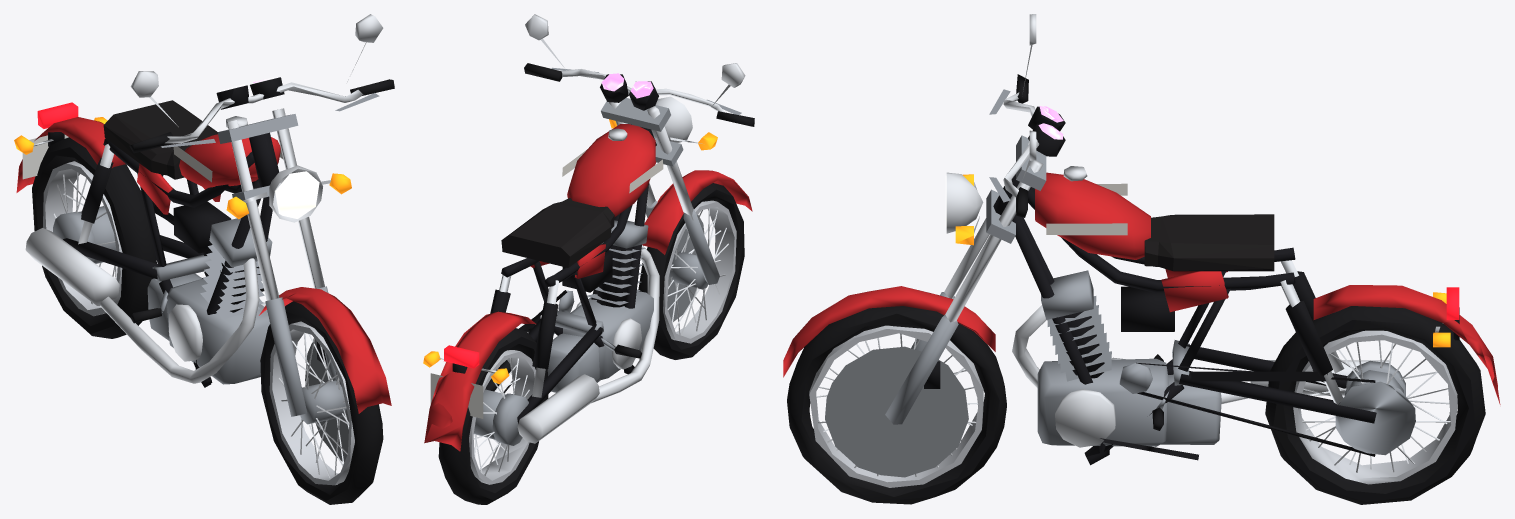
The model's file is palm-rider-125_lod1.glb.
3 renders of one model, left to right at view 1: azimuth 30°, elevation 25°; view 2: azimuth 150°, elevation 25°; view 3: azimuth 270°, elevation 25°, orthographic. The views are drawn at different scales.
Visible parts, largest first — view 1: LOD1; view 2: LOD1; view 3: LOD1.
Part boxes in pixels (box(x1,y1,x2,y2)): LOD1: box(14, 14, 394, 504); LOD1: box(423, 14, 754, 504); LOD1: box(783, 14, 1500, 504).
Bounding box in the file's own units: 0.86 × 1.29 × 1.95.
